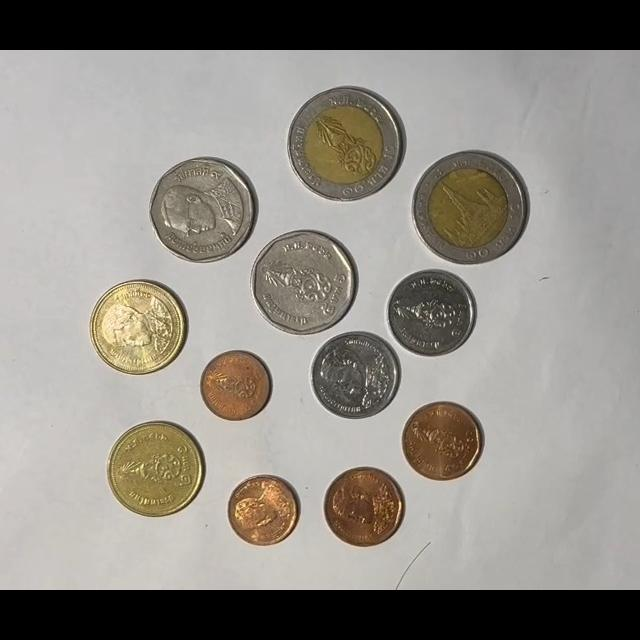1-baht: (310, 331, 400, 421), (386, 269, 476, 358)
10-baht: (287, 86, 405, 204), (412, 150, 527, 264)
2-baht: (107, 421, 205, 518), (90, 279, 185, 376)
25-satang: (227, 474, 301, 547), (200, 350, 271, 421)
5-baht: (250, 229, 357, 336), (149, 158, 257, 264)
50-satang: (323, 467, 405, 548), (401, 401, 483, 481)
